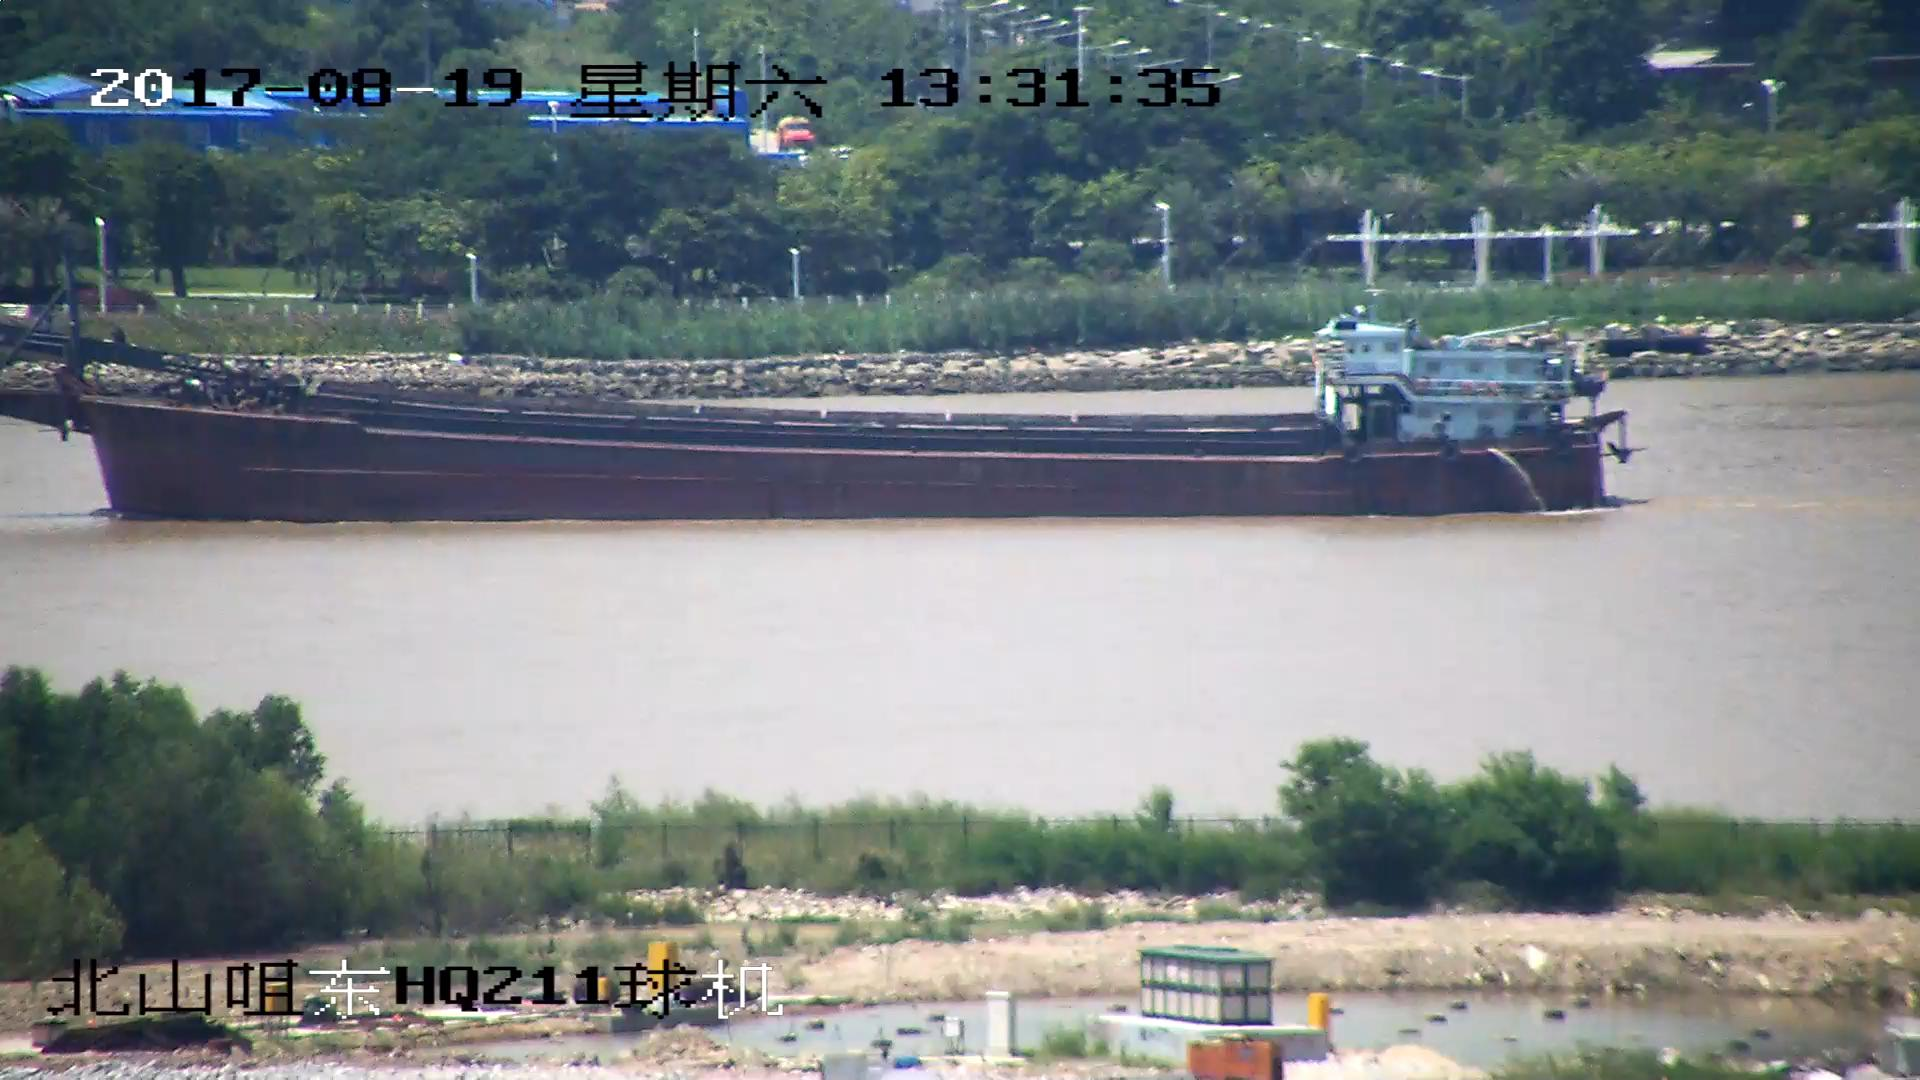bulk cargo carrier: (1, 276, 1632, 522)
